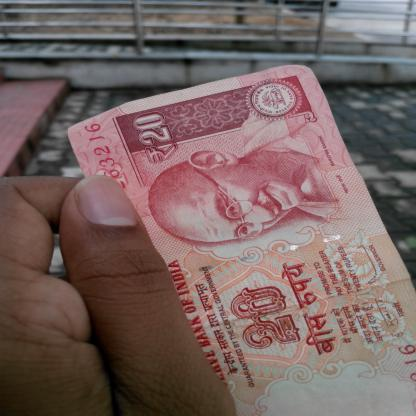Old20Front: (67, 63, 415, 415)
